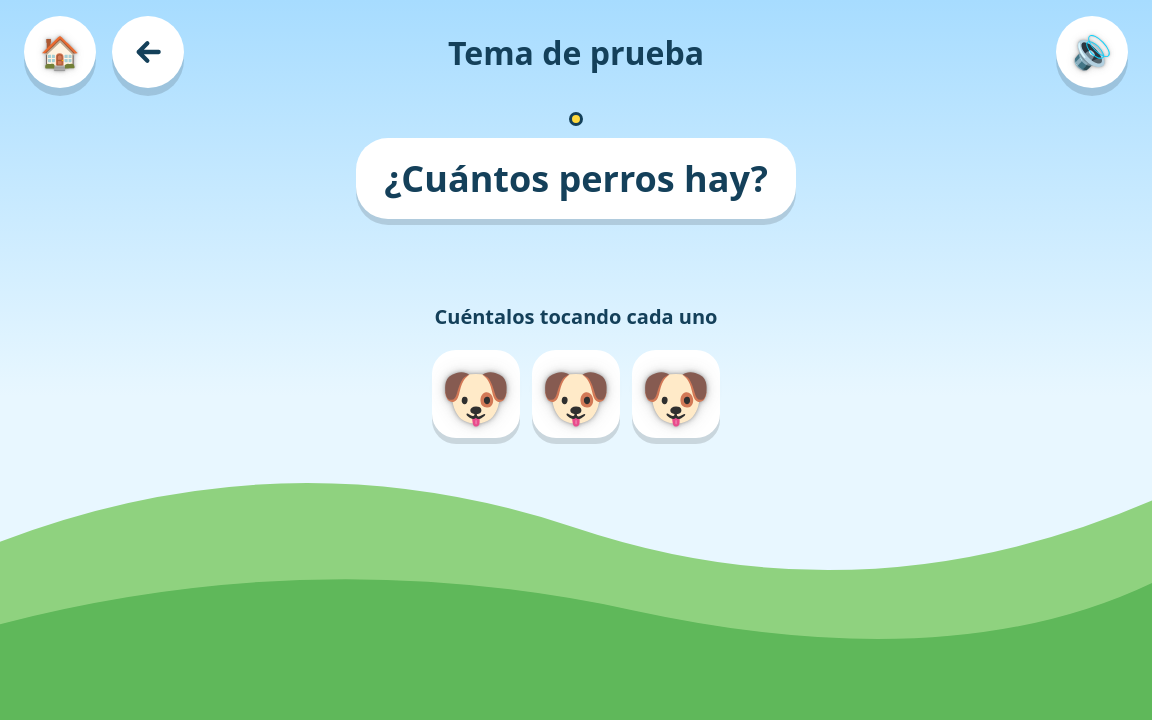
Test: Practice: ejercicios de elegir › contar tocando › al principio solo están los dibujos para contar: las cifras aparecen al contarlos todos
The image size is (1152, 720).
Expected: the button "3" is not shown
Expected: the button "2" is not shown
Click the button named "Contar".
click(476, 394)  # box [432,350,520,438]
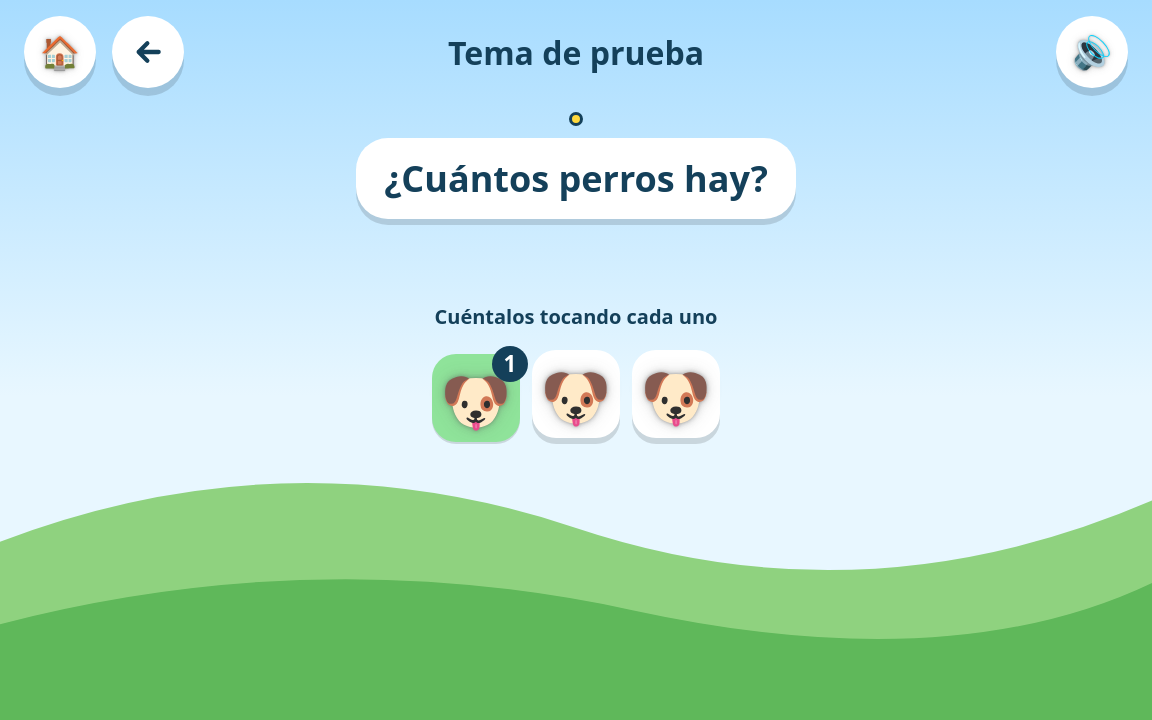
Click the button named "Contar".
click(576, 394)  # box [532,350,620,438]
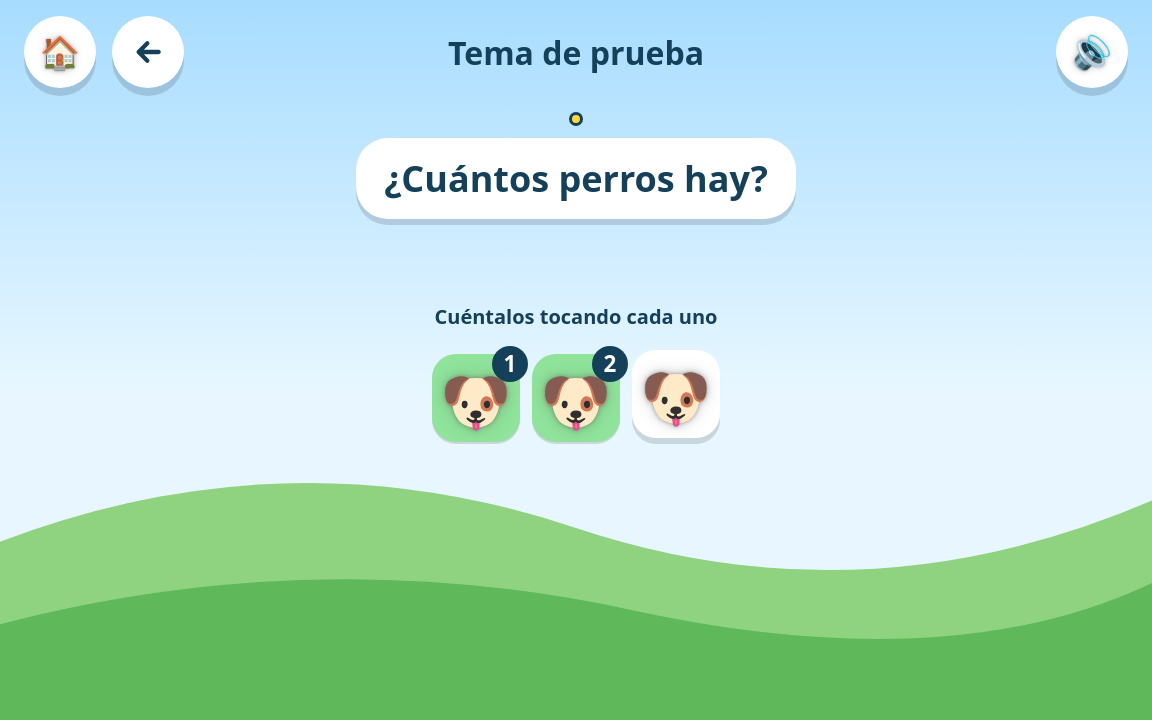
Expected: the button "3" is not shown
Click the button named "Contar".
click(676, 394)  # box [632,350,720,438]
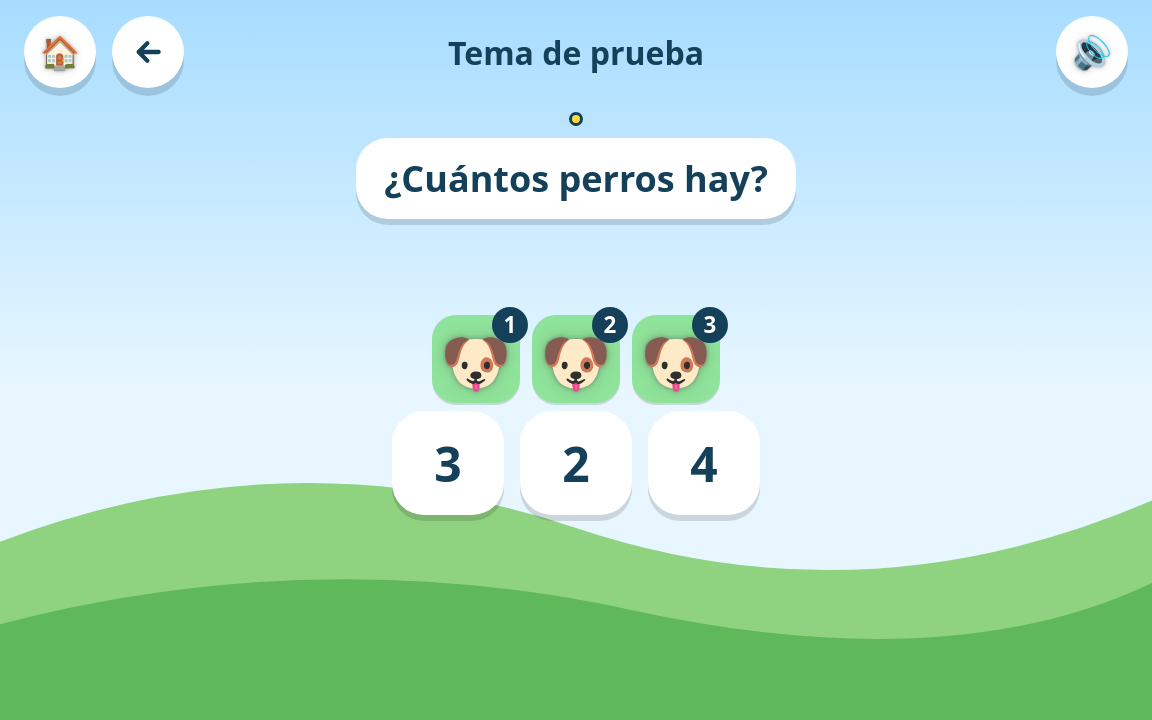
Expected: the button "3" is enabled, [392,411,504,515]
Expected: the button "2" is enabled, [520,411,632,515]
Expected: the button "4" is enabled, [648,411,760,515]
